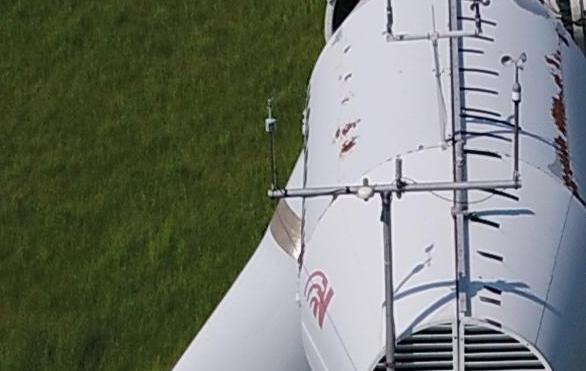damage: (550, 72, 574, 175), (562, 174, 586, 207), (333, 119, 362, 144), (338, 135, 359, 157), (545, 48, 563, 70), (554, 23, 570, 47), (332, 27, 343, 46), (341, 92, 354, 106), (339, 72, 353, 81), (343, 45, 350, 55)
